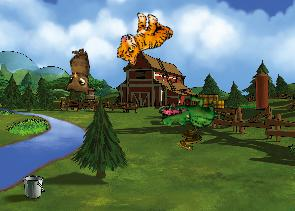crocodile: (156, 85, 225, 142)
owl: (58, 47, 94, 98)
tiger: (112, 6, 176, 74)
